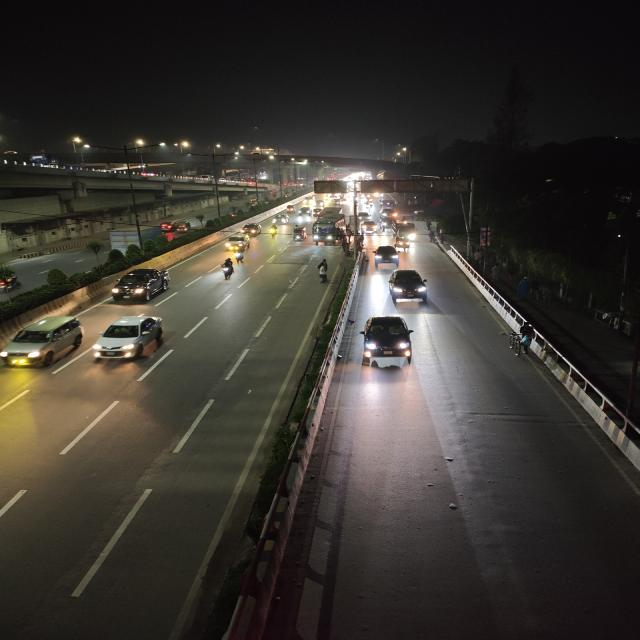bicycle: (509, 327, 536, 360)
bus: (313, 212, 347, 247), (313, 180, 347, 207)
car: (1, 314, 86, 372), (89, 313, 170, 365), (358, 313, 417, 369), (108, 266, 173, 304), (385, 266, 432, 306), (373, 243, 401, 264), (223, 234, 250, 252), (241, 222, 263, 238)
cng: (290, 226, 308, 244), (359, 220, 379, 234), (394, 237, 412, 250), (178, 218, 191, 234)
motorcycle: (217, 257, 239, 283), (234, 247, 248, 265), (269, 224, 279, 238)
pedestrian: (316, 260, 332, 282)
rickshaw: (291, 225, 308, 243)
truck: (392, 222, 417, 240)
